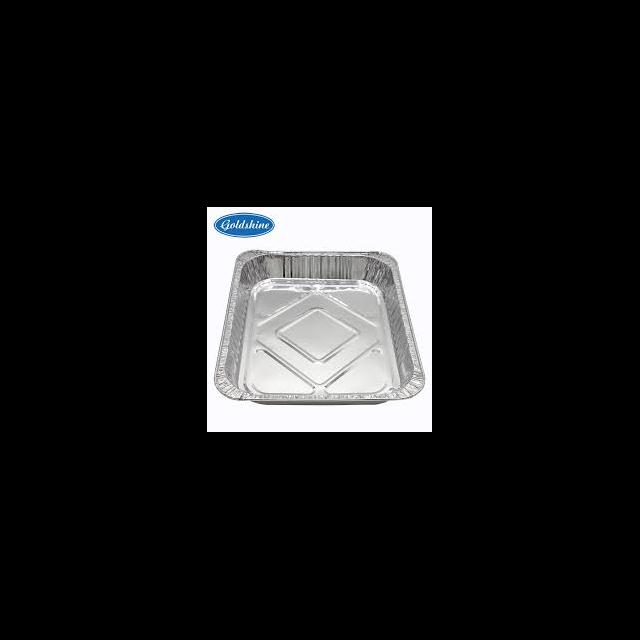metal: (213, 248, 424, 404)
